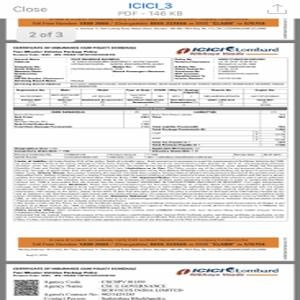image: (174, 43, 280, 57)
table: (10, 107, 288, 160), (13, 86, 288, 107)
text: (14, 158, 286, 221), (11, 43, 137, 56)
